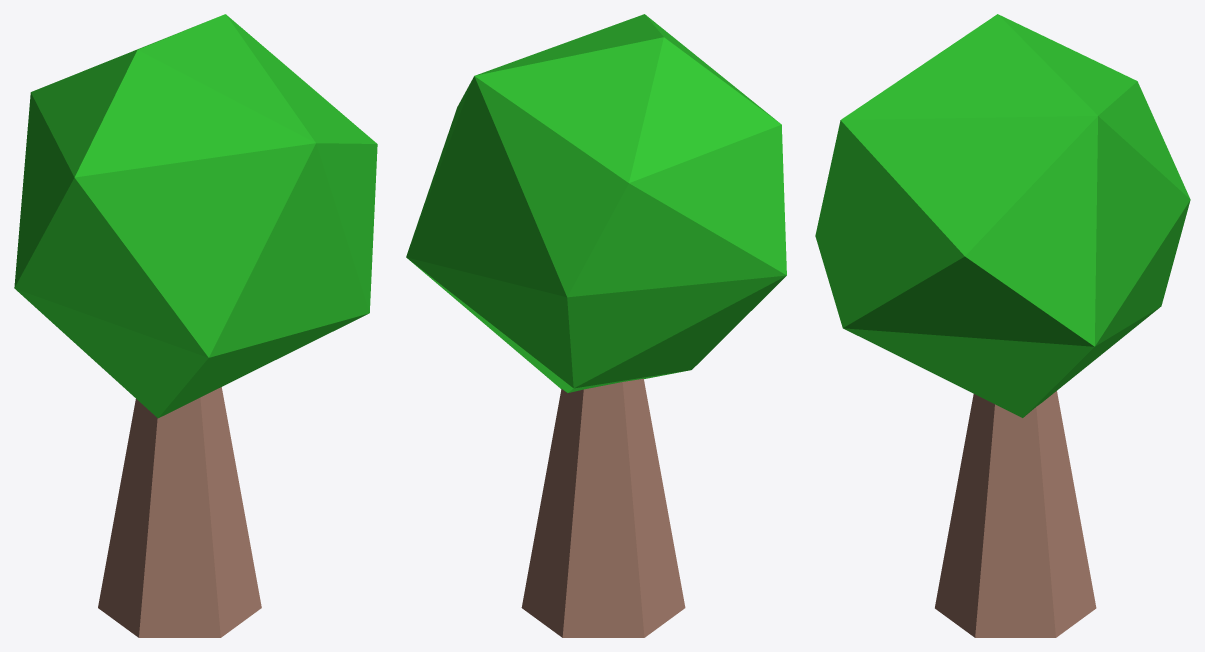
Rendered from tree_low-poly-single-trunk.dae.
The picture shows the model from 3 angles, left to right: view 1: azimuth 30°, elevation 25°; view 2: azimuth 150°, elevation 25°; view 3: azimuth 270°, elevation 25°; orthographic projection.
Parts seen in each view (by area): view 1: Cylinder; view 2: Cylinder; view 3: Cylinder.
Part boxes in pixels (x1,y1,x2,y2): Cylinder: [14, 14, 377, 637]; Cylinder: [406, 14, 786, 637]; Cylinder: [815, 14, 1190, 637].
Size of the model in its own units: 2.03 by 1.93 by 3.23.
